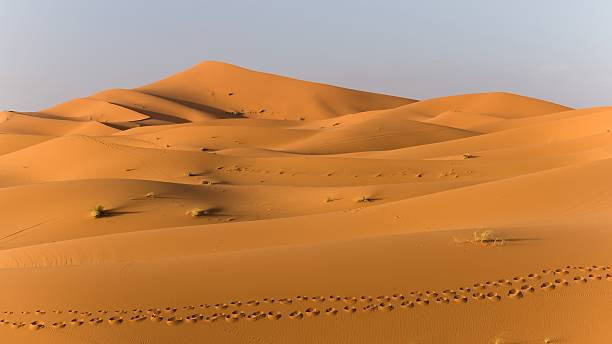animal_footprint: (0, 265, 611, 329), (28, 321, 44, 330), (165, 316, 182, 324), (107, 316, 123, 324), (288, 311, 303, 318), (325, 307, 337, 315)
